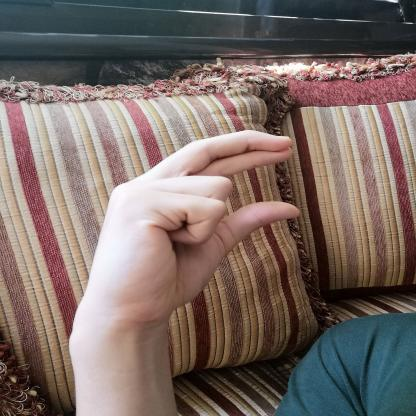DHELL: (68, 122, 312, 332)
